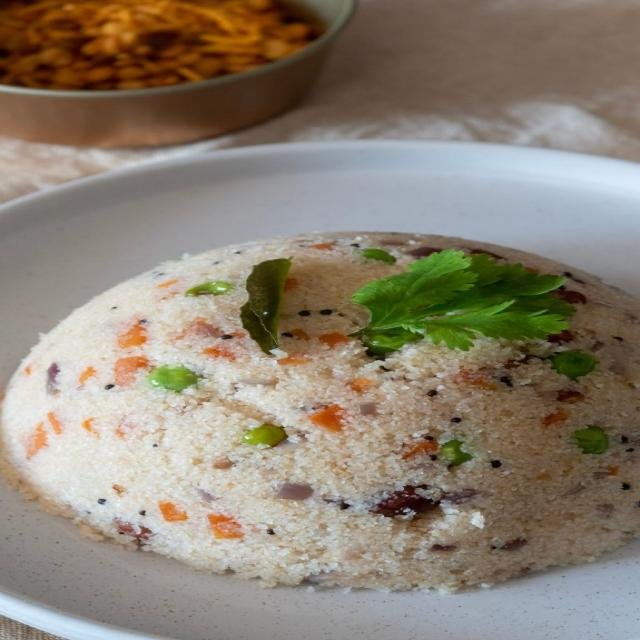upma: (0, 217, 640, 611)
